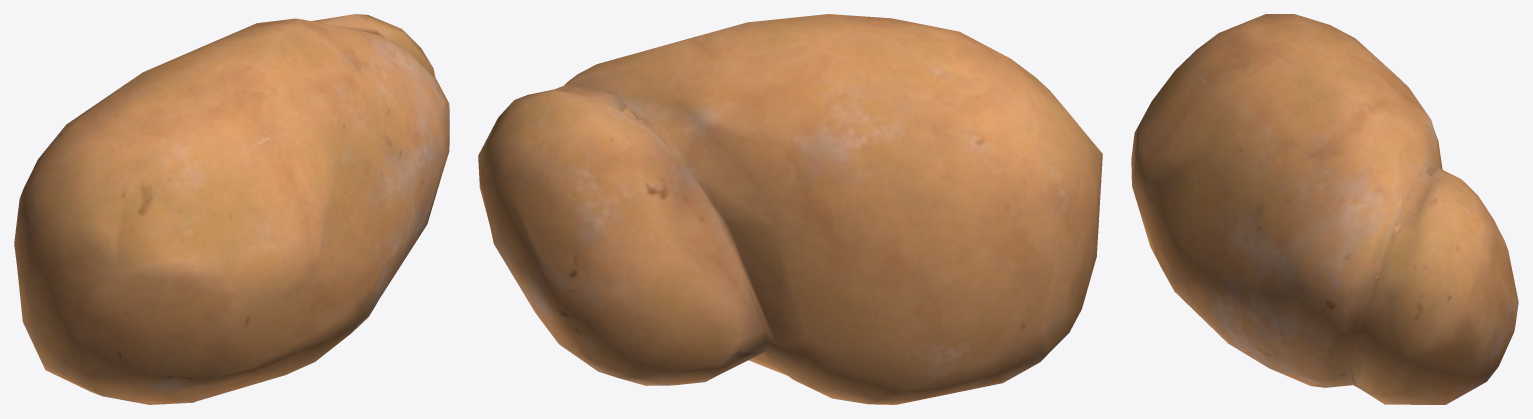
3 renders of one model, left to right at view 1: azimuth 30°, elevation 25°; view 2: azimuth 150°, elevation 25°; view 3: azimuth 270°, elevation 25°, orthographic. The views are drawn at different scales.
Visible parts, largest first — view 1: Rock_2_LOD2; view 2: Rock_2_LOD2; view 3: Rock_2_LOD2.
Boxes of the visible parts, x1=… form: Rock_2_LOD2: x1=14, y1=14, x2=449, y2=404; Rock_2_LOD2: x1=478, y1=14, x2=1102, y2=404; Rock_2_LOD2: x1=1131, y1=14, x2=1518, y2=404.
Bounding box in the file's own units: 3.38 × 2.15 × 2.52.
1 material, 1 textured.
